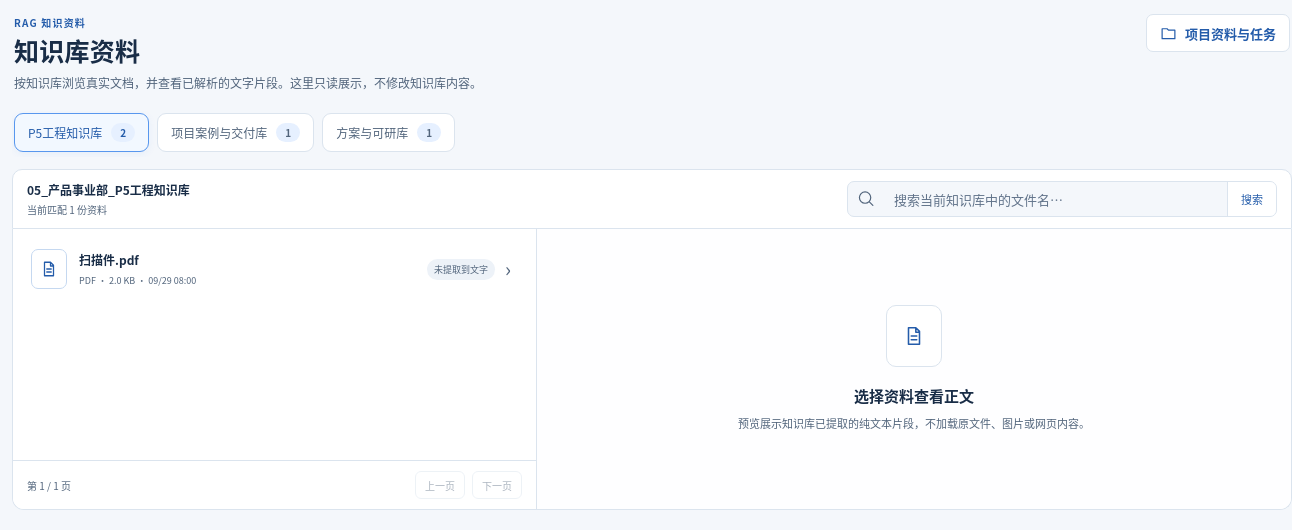
Scenario: KnowledgeMaterials › 明确区分已解析但未提取到文字的资料
Click the button "扫描件.pdf PDF · 2.0 KB · 09/29 08:00 未提取到文字 ›": (49,269) [20,236,529,302]
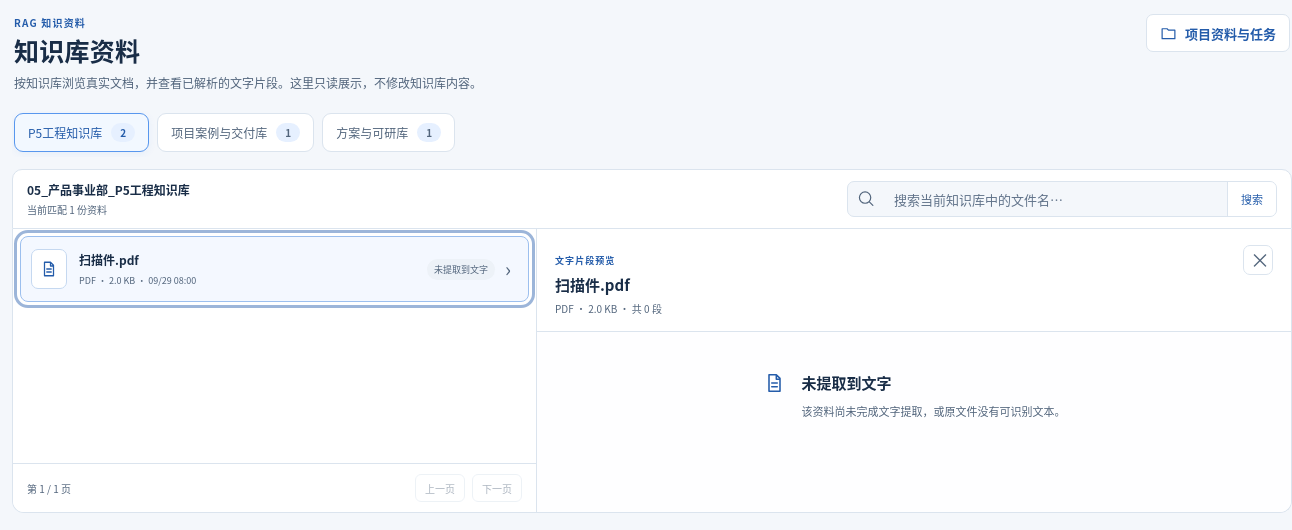
Check: the heading "未提取到文字" is shown, box [802,372,892,393]
Check: the text "该资料尚未完成文字提取，或原文件没有可识别文本。" is shown, box [802,402,1066,422]
